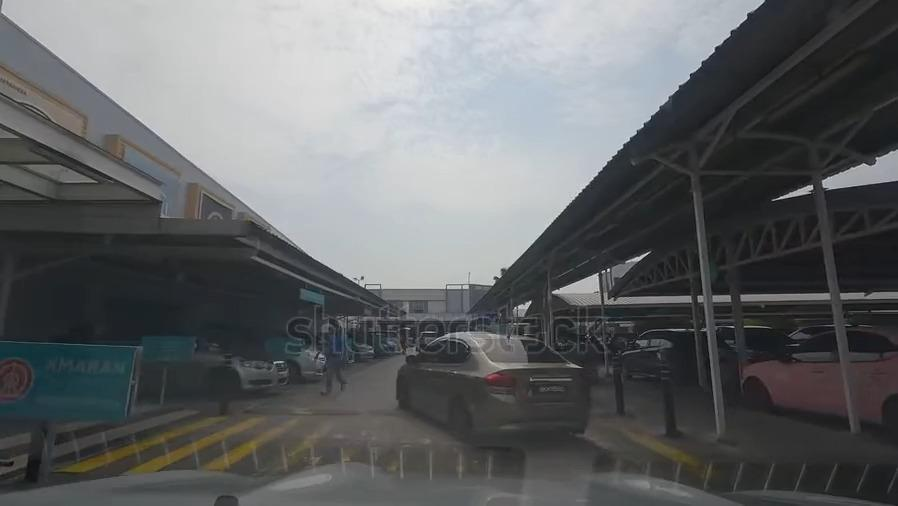car: (401, 335, 581, 432), (743, 331, 898, 415), (109, 330, 285, 391), (622, 332, 728, 374), (270, 334, 327, 383), (354, 339, 375, 359), (418, 330, 435, 345)
pedestrian: (50, 429, 747, 483)
person: (325, 322, 339, 395)
speedbump: (245, 404, 635, 420)
wheel: (446, 395, 471, 437), (206, 367, 239, 396), (397, 374, 407, 405)
